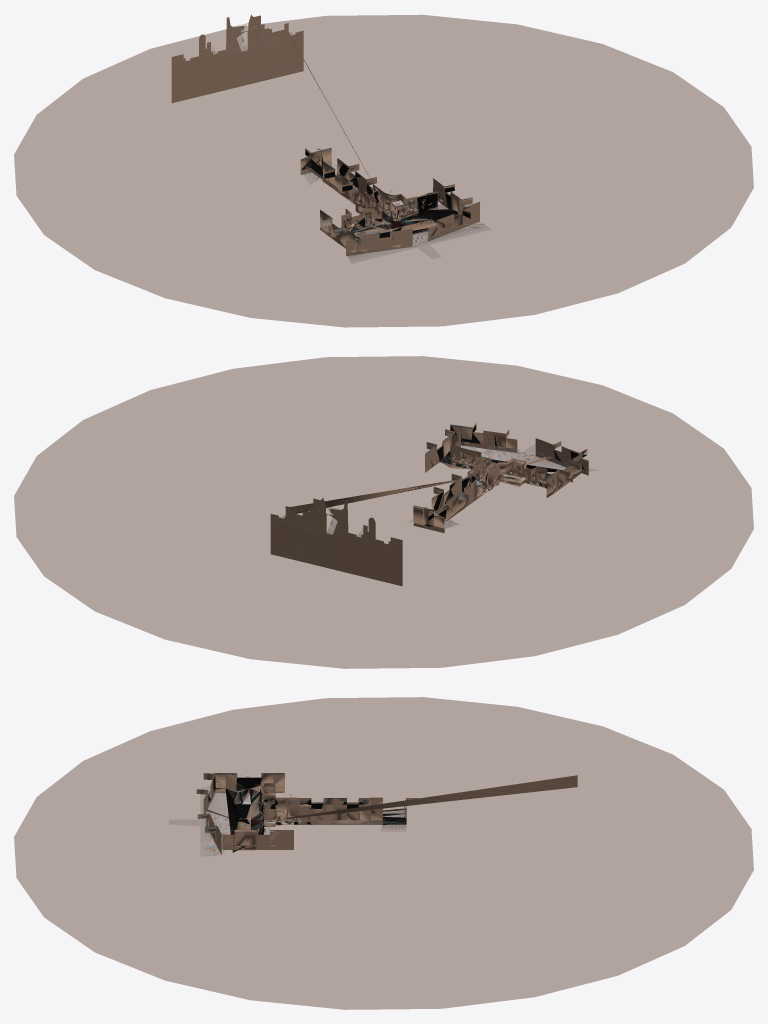
Rendered from urban_street_scene.glb.
3 views of the same model, one above another, from view 1: azimuth 30°, elevation 25°; view 2: azimuth 150°, elevation 25°; view 3: azimuth 270°, elevation 25° (orthographic).
Visible parts, largest first — view 1: body; view 2: body; view 3: body.
Part boxes in pixels (x1,y1,x2,y2): body: (14,14,753,327); body: (14,356,753,668); body: (14,697,753,1009).
Size of the model in its own units: 26 by 3.78 by 26.
Materials: 12 (11 with a texture image).
